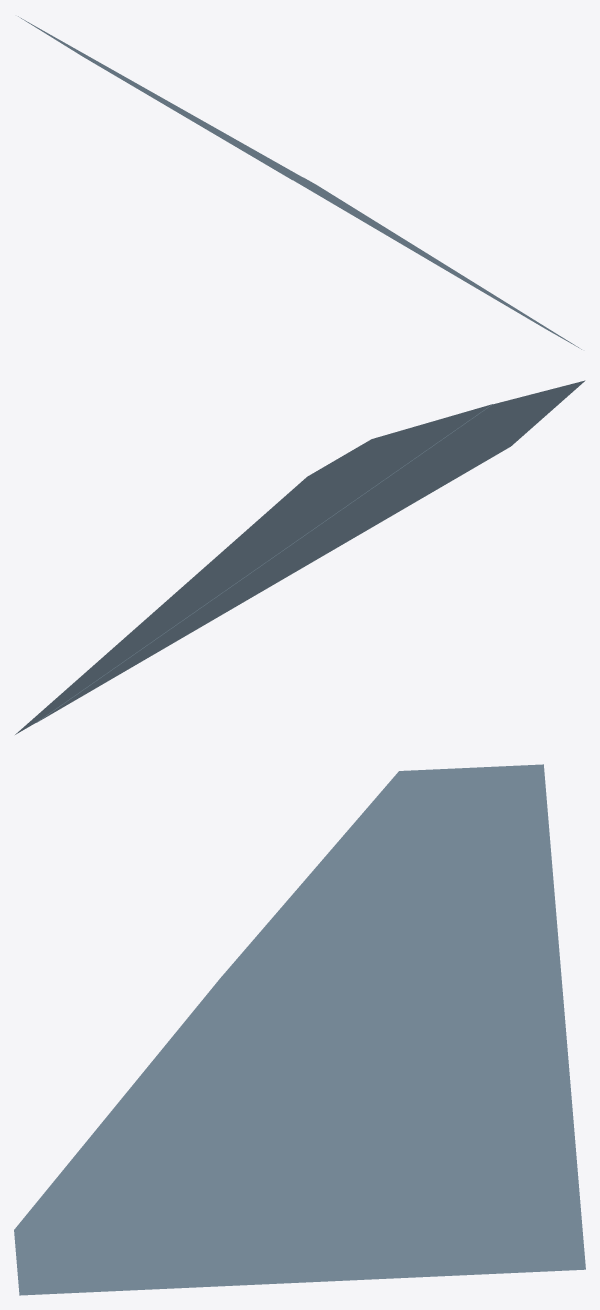
The picture shows the model from 3 angles, top to bottom: view 1: azimuth 30°, elevation 25°; view 2: azimuth 150°, elevation 25°; view 3: azimuth 270°, elevation 25°; orthographic projection. The views are drawn at different scales.
Size of the model in its own units: 872 by 624 by 1006.
